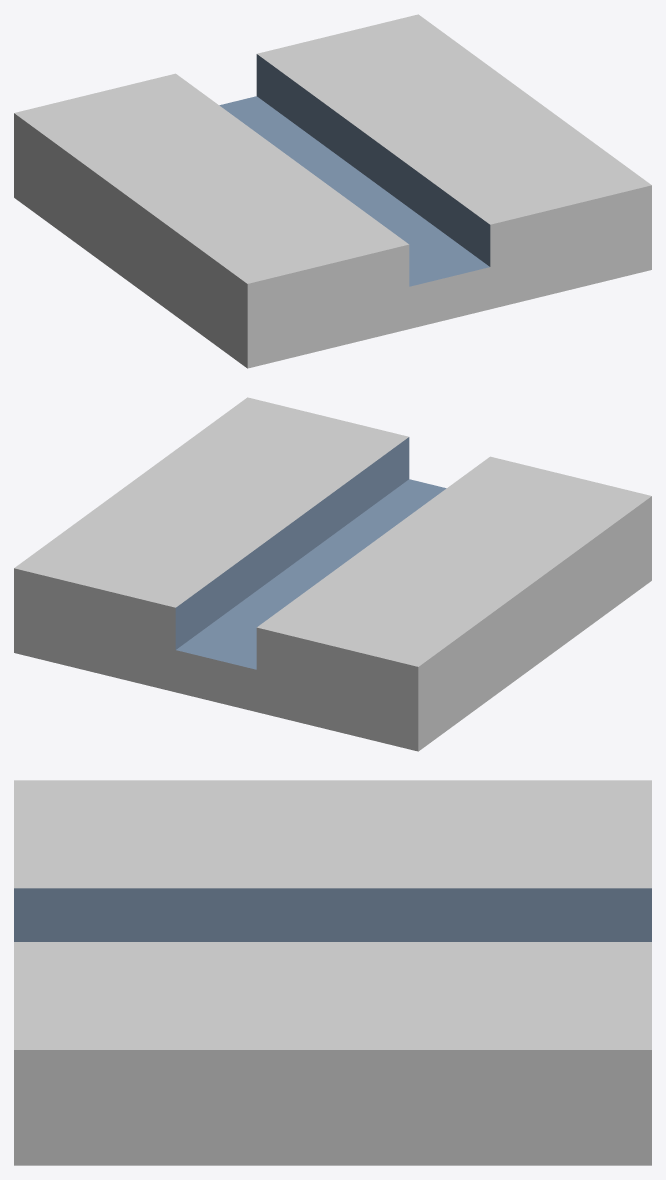
The model's file is Path.fbx.
3 renders of one model, top to bottom at view 1: azimuth 30°, elevation 25°; view 2: azimuth 150°, elevation 25°; view 3: azimuth 270°, elevation 25°, orthographic. The views are drawn at different scales.
Parts seen in each view (by area): view 1: Cube; view 2: Cube; view 3: Cube.
Boxes of the visible parts, left/top/right/bottom form: Cube: left=14, top=14, right=651, bottom=368; Cube: left=14, top=397, right=651, bottom=751; Cube: left=14, top=780, right=651, bottom=1165.
Bounding box in the file's own units: 1000 × 1000 × 200.
